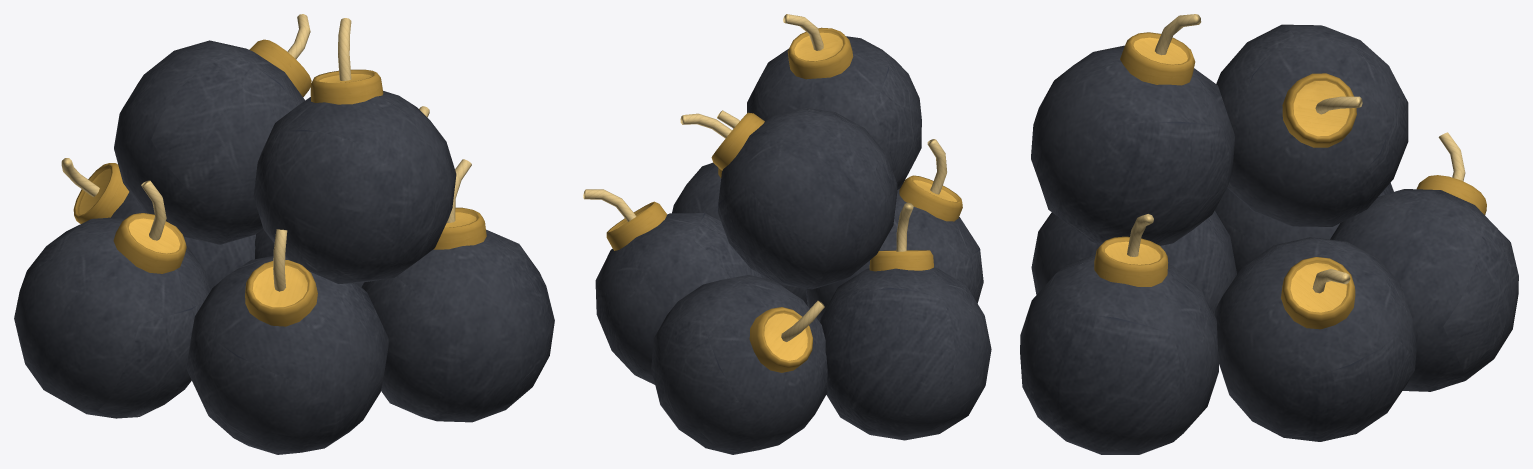
File: bombPile.obj
The picture shows the model from 3 angles, left to right: view 1: azimuth 30°, elevation 25°; view 2: azimuth 150°, elevation 25°; view 3: azimuth 270°, elevation 25°; orthographic projection. The views are drawn at different scales.
Visible parts, largest first — view 1: polySurface2 pCube2; view 2: polySurface2 pCube2; view 3: polySurface2 pCube2.
Boxes of the visible parts, x1,y1,x2,y2 form: polySurface2 pCube2: (14, 14, 554, 454); polySurface2 pCube2: (583, 14, 991, 454); polySurface2 pCube2: (1020, 14, 1518, 454).
Size of the model in its own units: 2.16 by 1.91 by 2.16.
